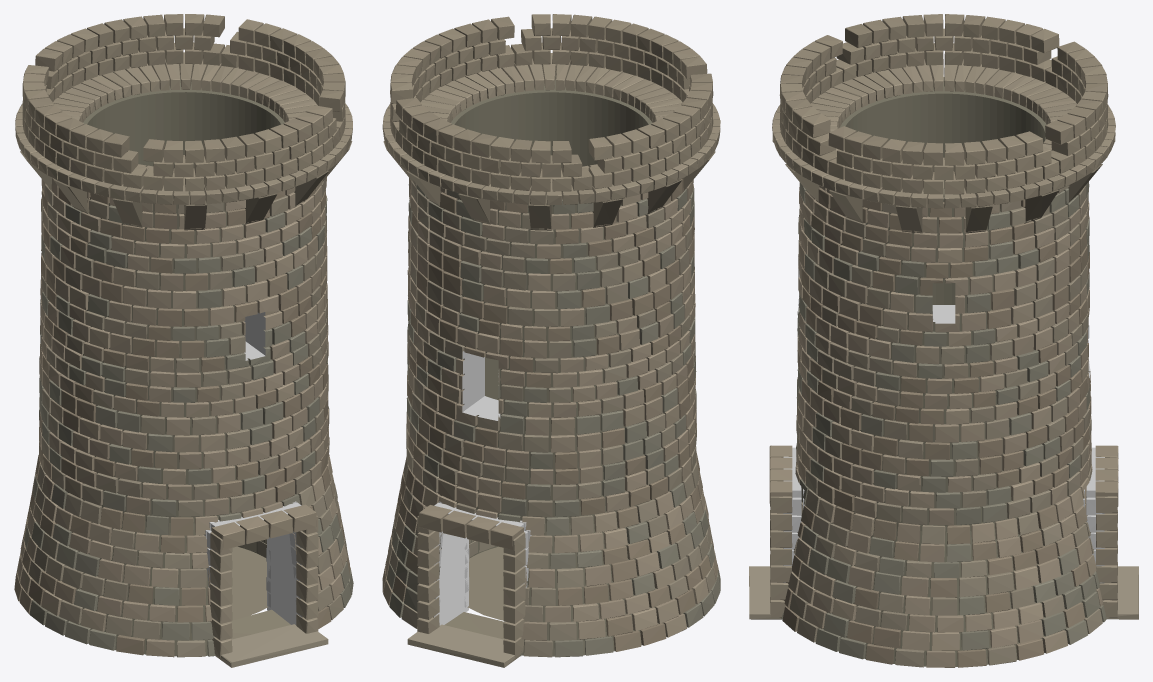
File: Tour_Genoise_LOD1.fbx
3 views of the same model, side by side, from view 1: azimuth 30°, elevation 25°; view 2: azimuth 150°, elevation 25°; view 3: azimuth 270°, elevation 25° (orthographic).
Parts seen in each view (by area): view 1: Maconnerie_Irreguliere_LOD1, Couronnement_14_Consoles_LOD1, Joints_Fut_Interieur_LOD1, Encadrements_Seuils_LOD1, Sol_Voute_Passage_LOD1, Pierres_Epaisseur_Passage_LOD1; view 2: Maconnerie_Irreguliere_LOD1, Couronnement_14_Consoles_LOD1, Joints_Fut_Interieur_LOD1, Encadrements_Seuils_LOD1, Sol_Voute_Passage_LOD1, Pierres_Epaisseur_Passage_LOD1; view 3: Maconnerie_Irreguliere_LOD1, Couronnement_14_Consoles_LOD1, Joints_Fut_Interieur_LOD1, Encadrements_Seuils_LOD1, Pierres_Epaisseur_Passage_LOD1.
Boxes of the visible parts, <box> form: Maconnerie_Irreguliere_LOD1: <box>14,177,353,657</box>; Couronnement_14_Consoles_LOD1: <box>15,14,352,230</box>; Joints_Fut_Interieur_LOD1: <box>56,76,305,656</box>; Encadrements_Seuils_LOD1: <box>210,504,328,667</box>; Sol_Voute_Passage_LOD1: <box>230,546,290,639</box>; Pierres_Epaisseur_Passage_LOD1: <box>204,501,301,587</box>; Maconnerie_Irreguliere_LOD1: <box>382,178,720,657</box>; Couronnement_14_Consoles_LOD1: <box>382,14,720,230</box>; Joints_Fut_Interieur_LOD1: <box>436,76,683,656</box>; Encadrements_Seuils_LOD1: <box>407,505,525,667</box>; Sol_Voute_Passage_LOD1: <box>444,546,504,639</box>; Pierres_Epaisseur_Passage_LOD1: <box>434,501,531,587</box>; Maconnerie_Irreguliere_LOD1: <box>781,182,1106,667</box>; Couronnement_14_Consoles_LOD1: <box>772,14,1115,233</box>; Joints_Fut_Interieur_LOD1: <box>817,77,1085,666</box>; Encadrements_Seuils_LOD1: <box>749,445,1138,619</box>; Pierres_Epaisseur_Passage_LOD1: <box>783,447,1104,600</box>.
Size of the model in its own units: 735 by 1210 by 833.
